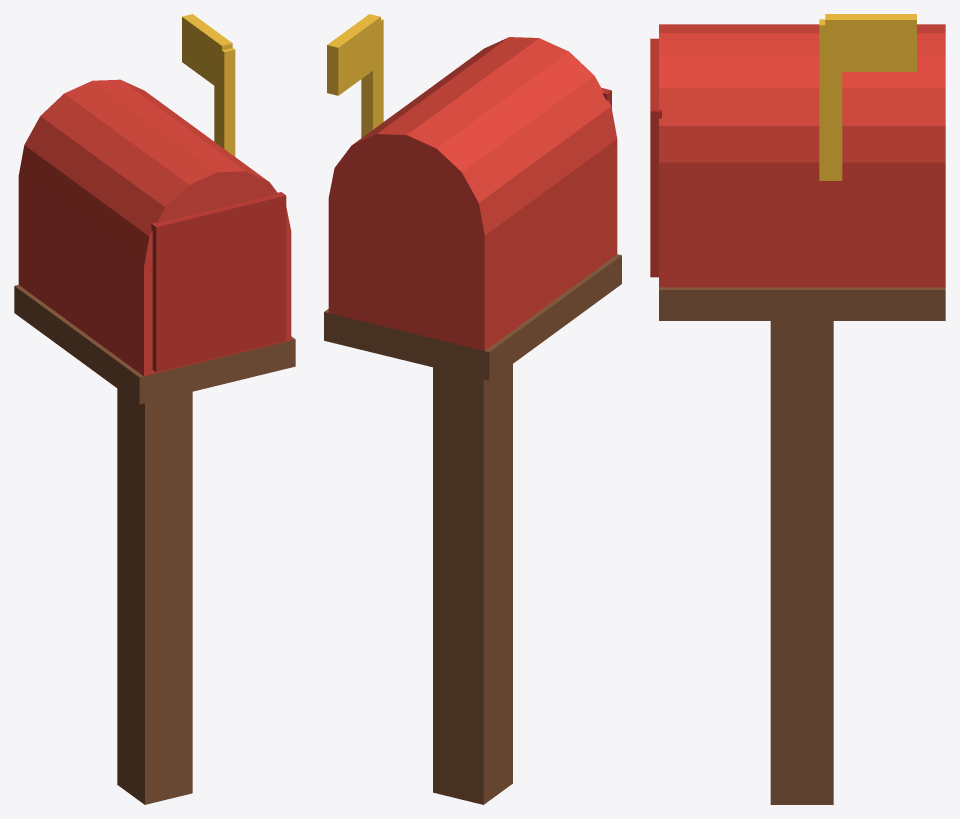
File: mailbox.glb
3 views of the same model, side by side, from view 1: azimuth 30°, elevation 25°; view 2: azimuth 150°, elevation 25°; view 3: azimuth 270°, elevation 25° (orthographic). The views are drawn at different scales.
Visible parts, largest first — view 1: Mailbox; view 2: Mailbox; view 3: Mailbox.
Boxes of the visible parts, bbox=[...] form: Mailbox: bbox=[14, 14, 295, 804]; Mailbox: bbox=[324, 14, 621, 804]; Mailbox: bbox=[650, 14, 945, 804].
Size of the model in its own units: 0.3825 by 1.58 by 0.515.
